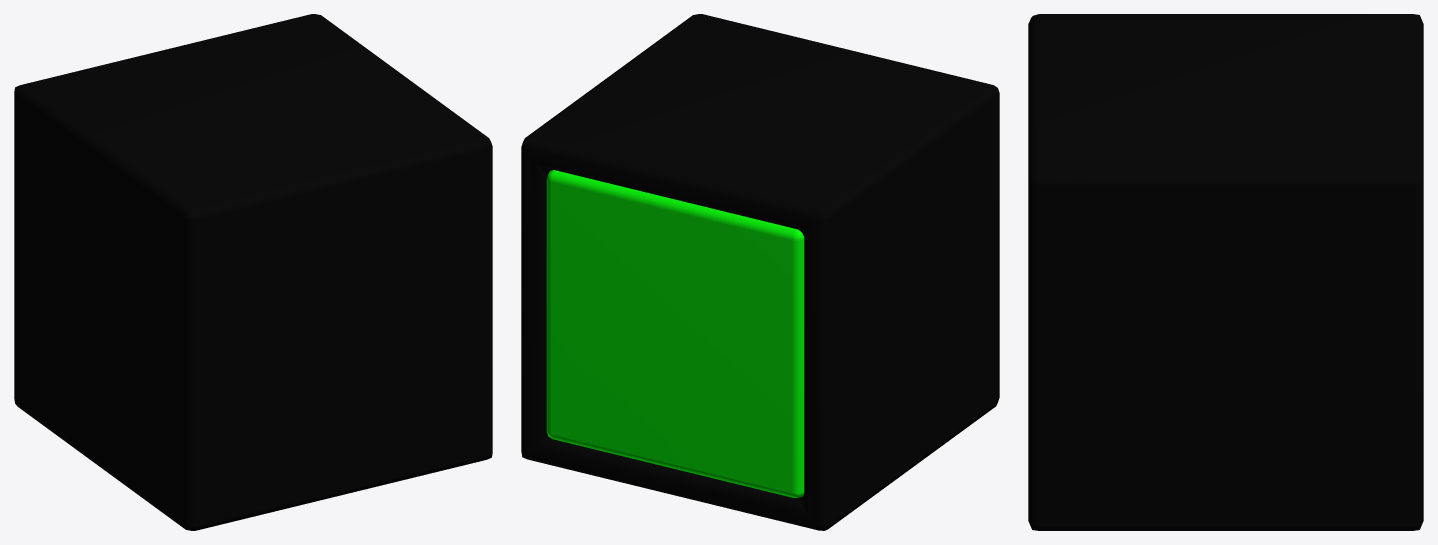
3 renders of one model, left to right at view 1: azimuth 30°, elevation 25°; view 2: azimuth 150°, elevation 25°; view 3: azimuth 270°, elevation 25°, orthographic. The views are drawn at different scales.
Parts seen in each view (by area): view 1: Cube.028; view 2: Cube.028; view 3: Cube.028.
Boxes of the visible parts, left/top/right/bottom form: Cube.028: left=14, top=14, right=492, bottom=530; Cube.028: left=521, top=14, right=999, bottom=530; Cube.028: left=1028, top=14, right=1423, bottom=530.
Size of the model in its own units: 2 by 2 by 2.
